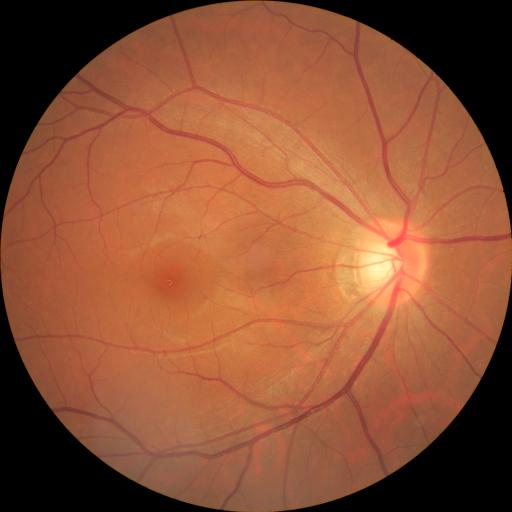Optic Cup: (360, 243, 403, 288)
Optic Disc: (354, 219, 427, 307)
